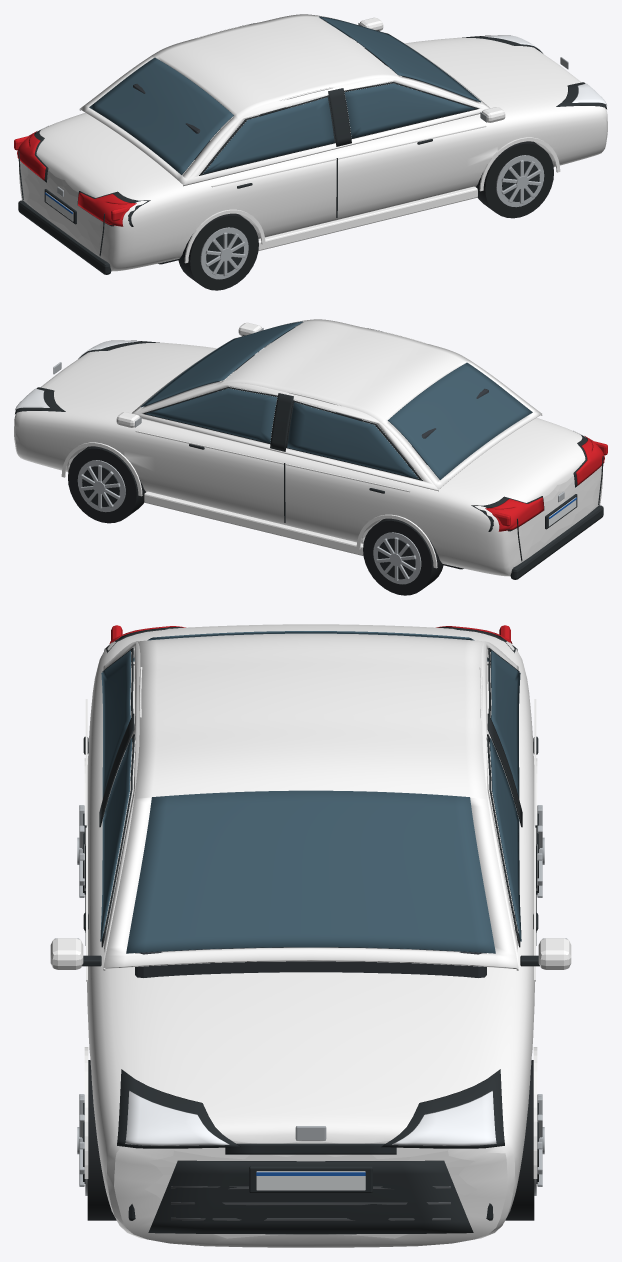
File: toyota-corolla.glb
3 renders of one model, top to bottom at view 1: azimuth 30°, elevation 25°; view 2: azimuth 150°, elevation 25°; view 3: azimuth 270°, elevation 25°, orthographic. The views are drawn at different scales.
Visible parts, largest first — view 1: FleetBody, FleetGlass, FleetTrim, FleetRubber, FleetLights; view 2: FleetBody, FleetGlass, FleetTrim, FleetRubber, FleetLights; view 3: FleetBody, FleetGlass, FleetTrim, FleetLights, FleetInterior, FleetRubber.
Part boxes in pixels (x1,y1,x2,y2): FleetBody: [19, 14, 607, 271]; FleetGlass: [89, 16, 480, 174]; FleetTrim: [18, 22, 606, 279]; FleetRubber: [178, 141, 553, 290]; FleetLights: [14, 35, 606, 226]; FleetBody: [14, 319, 602, 576]; FleetGlass: [141, 321, 532, 479]; FleetTrim: [15, 327, 603, 584]; FleetRubber: [68, 446, 443, 595]; FleetLights: [15, 340, 607, 531]; FleetBody: [50, 624, 571, 1247]; FleetGlass: [100, 631, 521, 953]; FleetTrim: [55, 627, 566, 1234]; FleetLights: [109, 625, 512, 1190]; FleetInterior: [135, 947, 486, 977]; FleetRubber: [87, 1060, 534, 1220].
Bounding box in the file's own units: 4.63 × 1.46 × 2.05.
